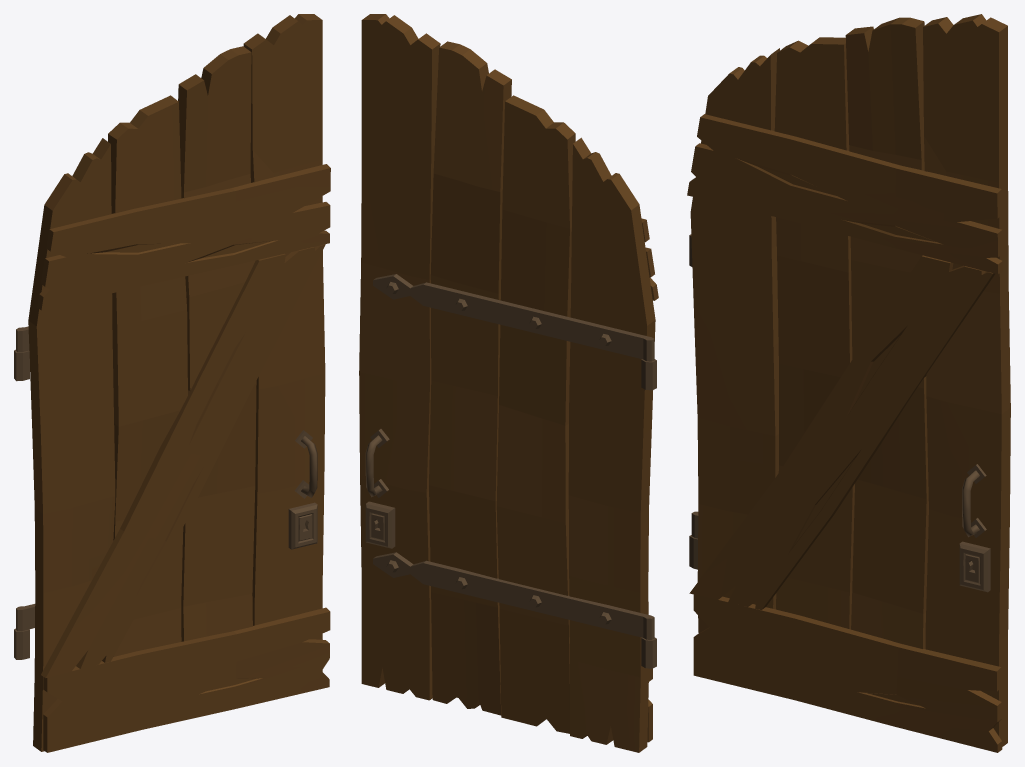
The model's file is Wood door.fbx.
The picture shows the model from 3 angles, left to right: view 1: azimuth 30°, elevation 25°; view 2: azimuth 150°, elevation 25°; view 3: azimuth 330°, elevation 25°; orthographic projection. The views are drawn at different scales.
Parts seen in each view (by area): view 1: DoorGate_Wooden_Left; view 2: DoorGate_Wooden_Left; view 3: DoorGate_Wooden_Left.
Part boxes in pixels (box(x1,y1,x2,y2)): DoorGate_Wooden_Left: box(14, 14, 330, 752); DoorGate_Wooden_Left: box(359, 14, 658, 752); DoorGate_Wooden_Left: box(687, 14, 1010, 752).
Size of the model in its own units: 173 by 369 by 34.97.
